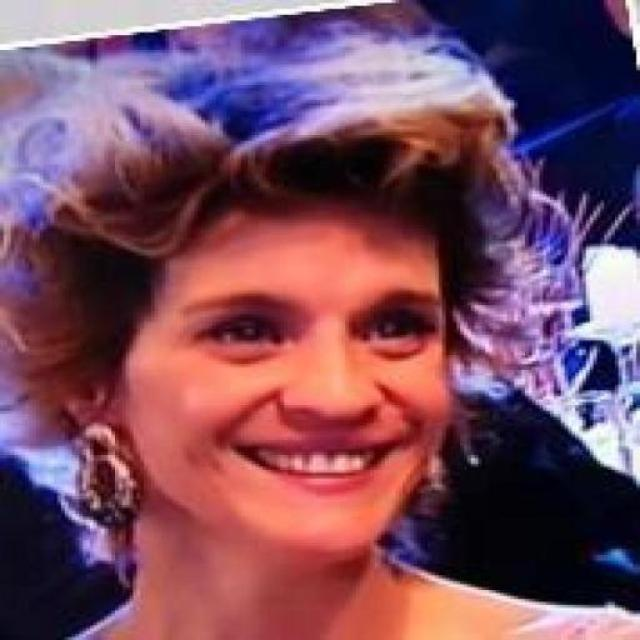bareface: (93, 107, 490, 523)
